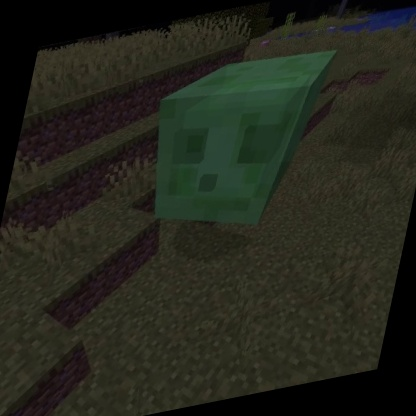slime: (120, 36, 344, 257)
